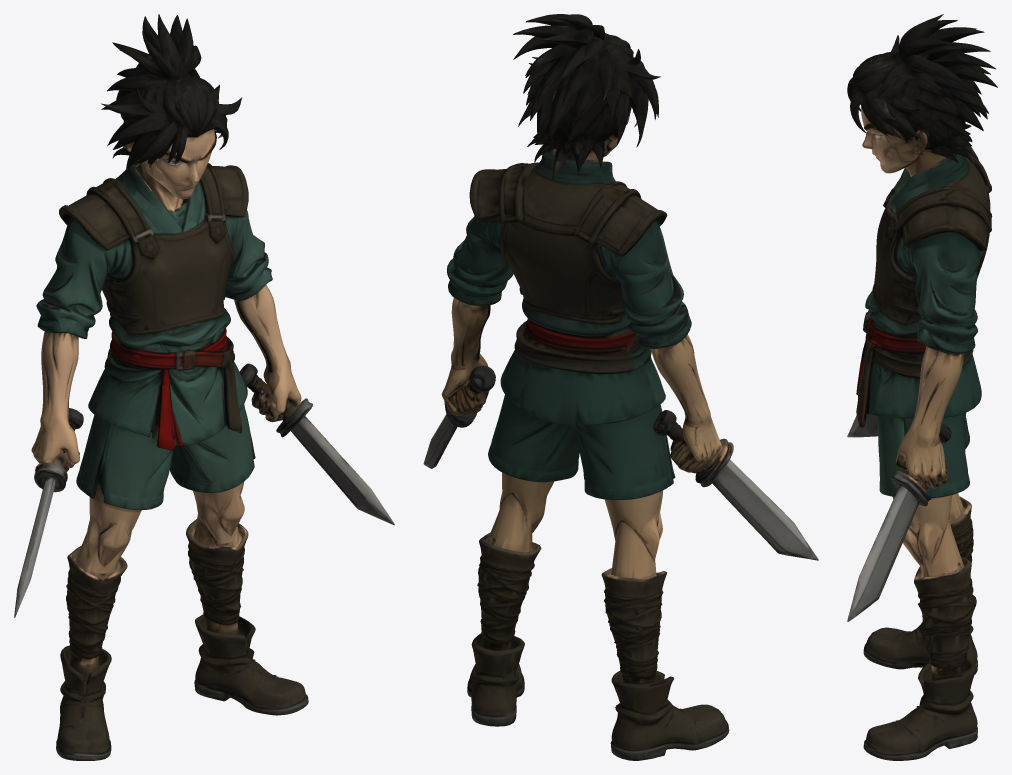
Rendered from wang_ying_ai.glb.
3 views of the same model, side by side, from view 1: azimuth 30°, elevation 25°; view 2: azimuth 150°, elevation 25°; view 3: azimuth 270°, elevation 25° (orthographic). The views are drawn at different scales.
Parts seen in each view (by area): view 1: node_0; view 2: node_0; view 3: node_0.
Part boxes in pixels (x1=…): node_0: x1=14, y1=14, x2=394, y2=760; node_0: x1=423, y1=14, x2=818, y2=760; node_0: x1=847, y1=14, x2=997, y2=760.
Bounding box in the file's own units: 0.6523 × 1.13 × 0.2243.
Materials: 1 (1 with a texture image).
